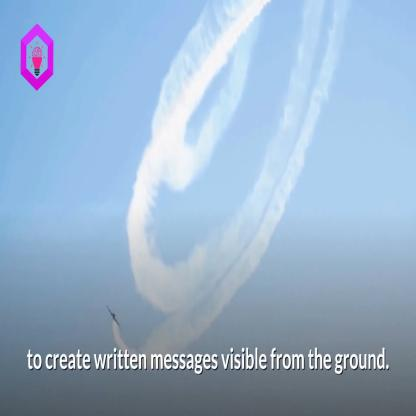plane: (105, 298, 124, 333)
